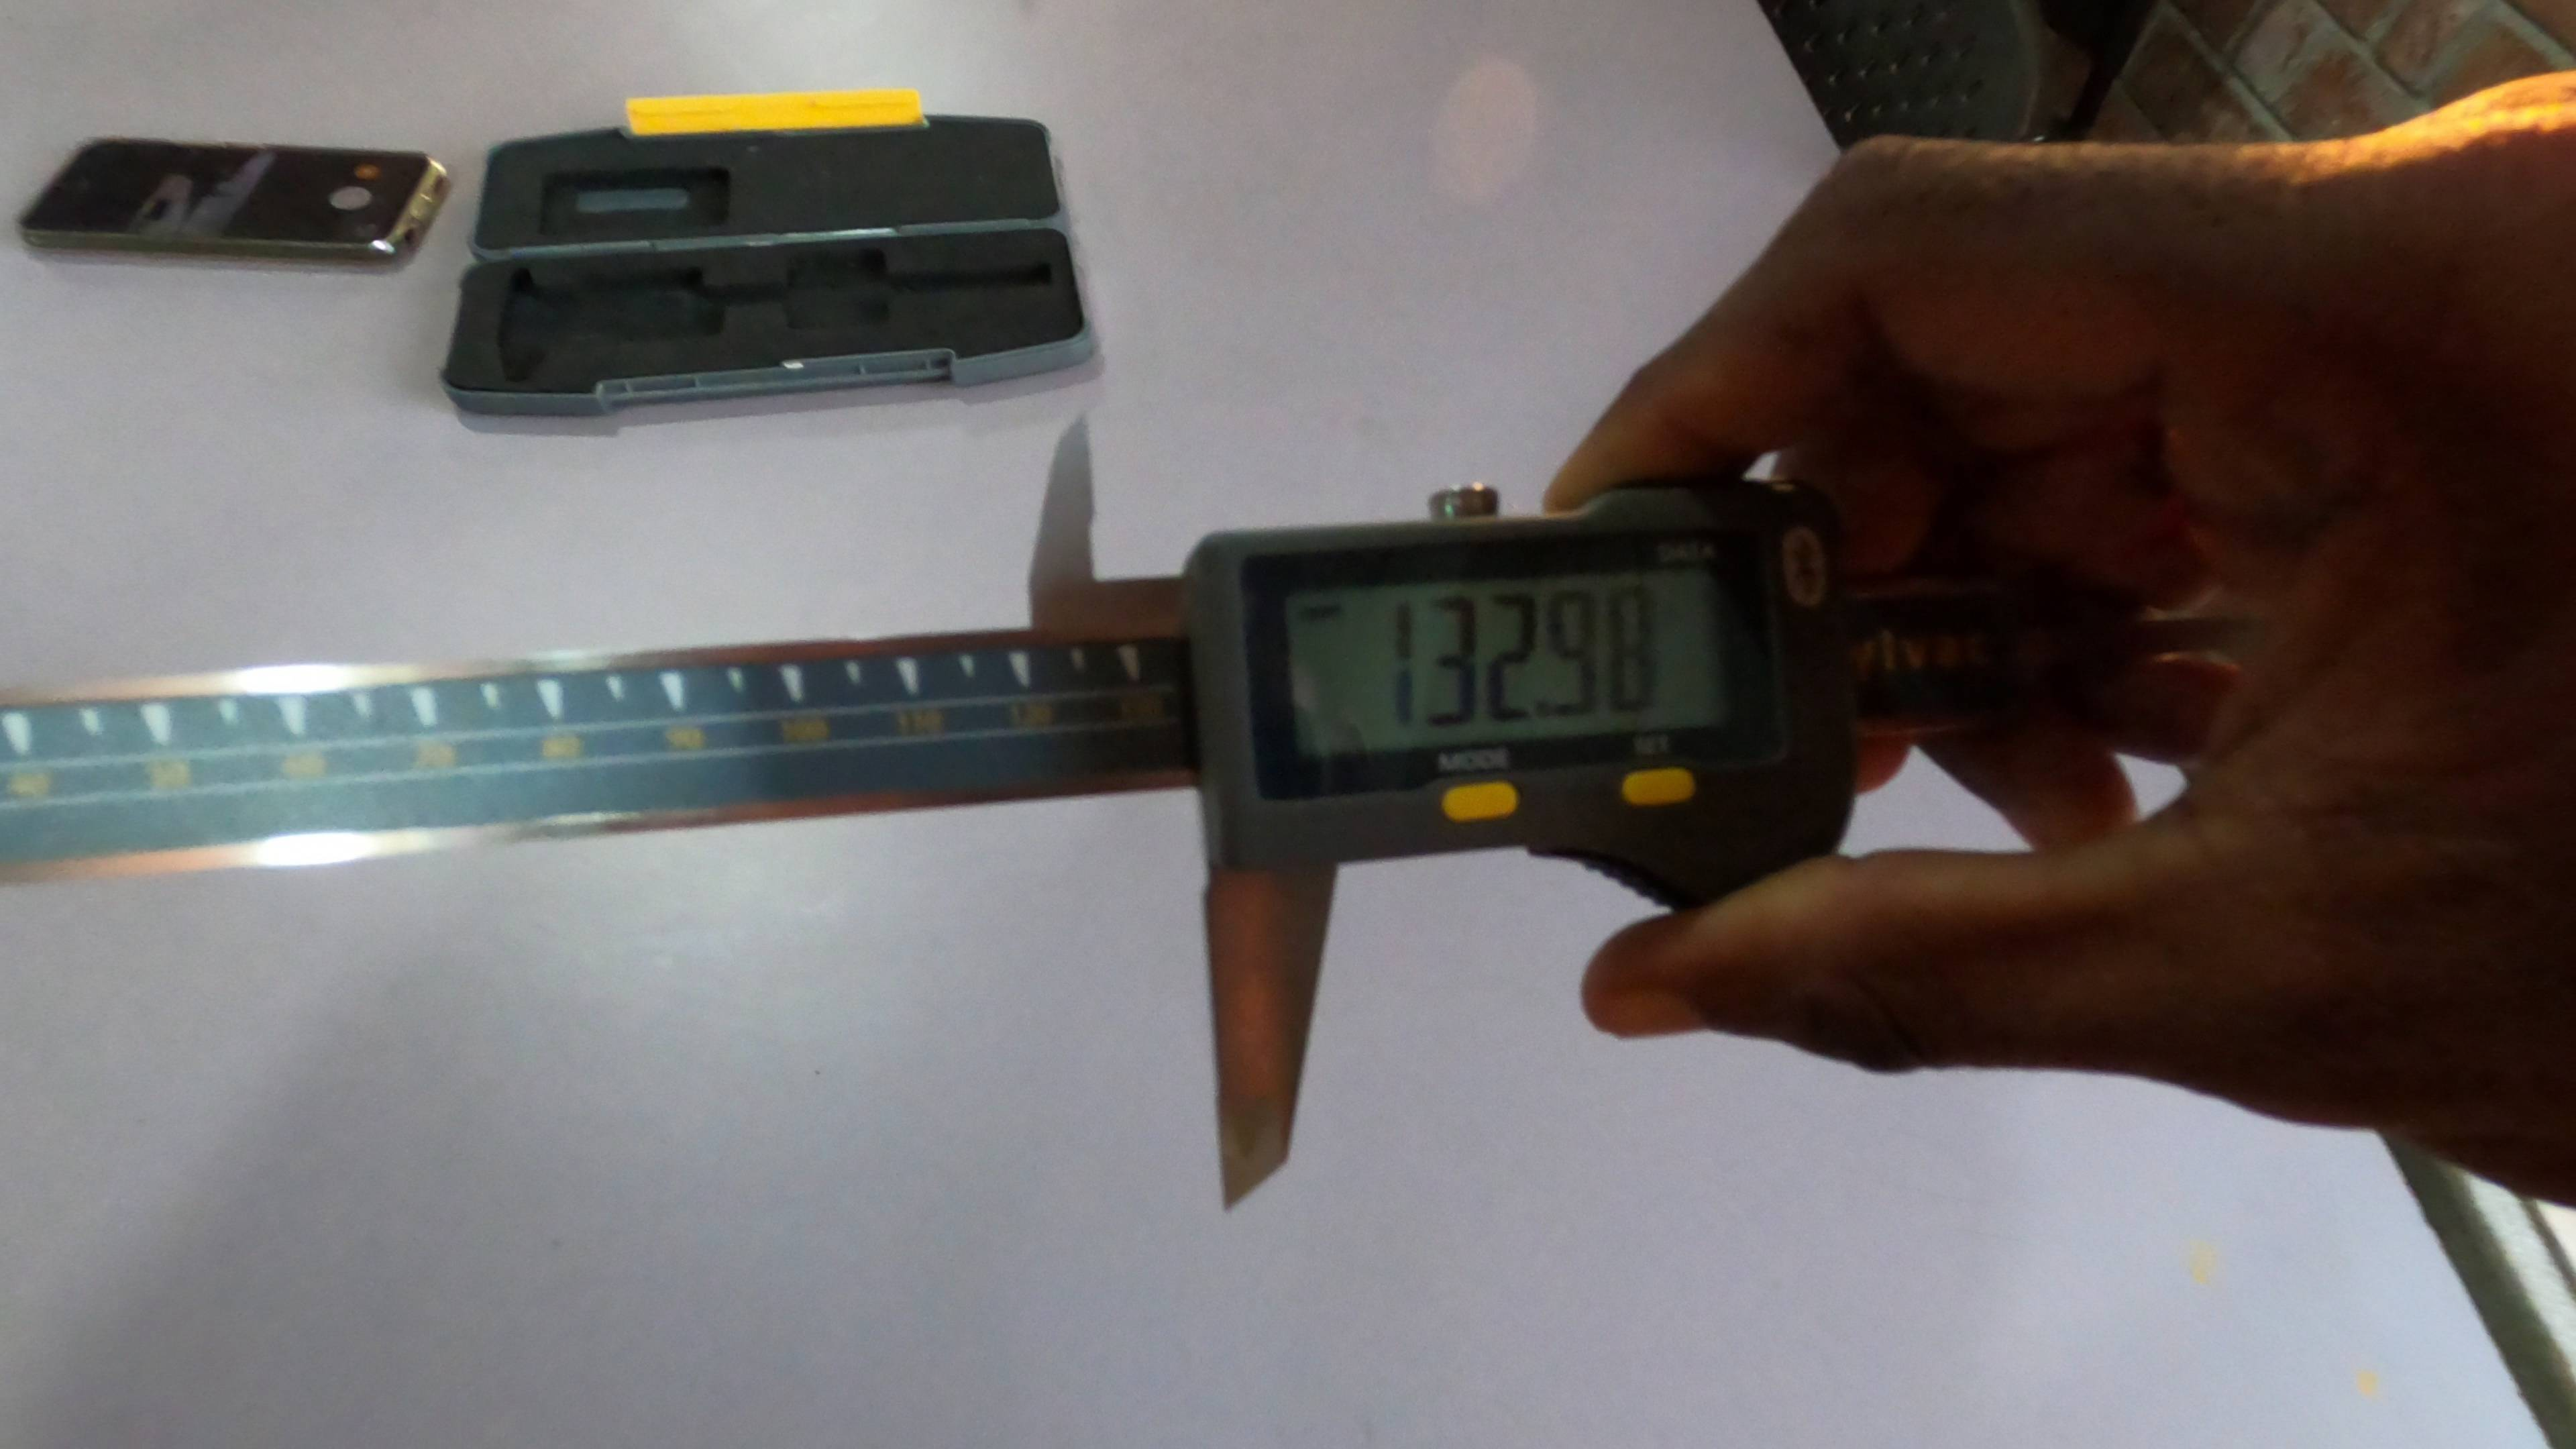vernier_caliper: (7, 412, 1879, 1215)
